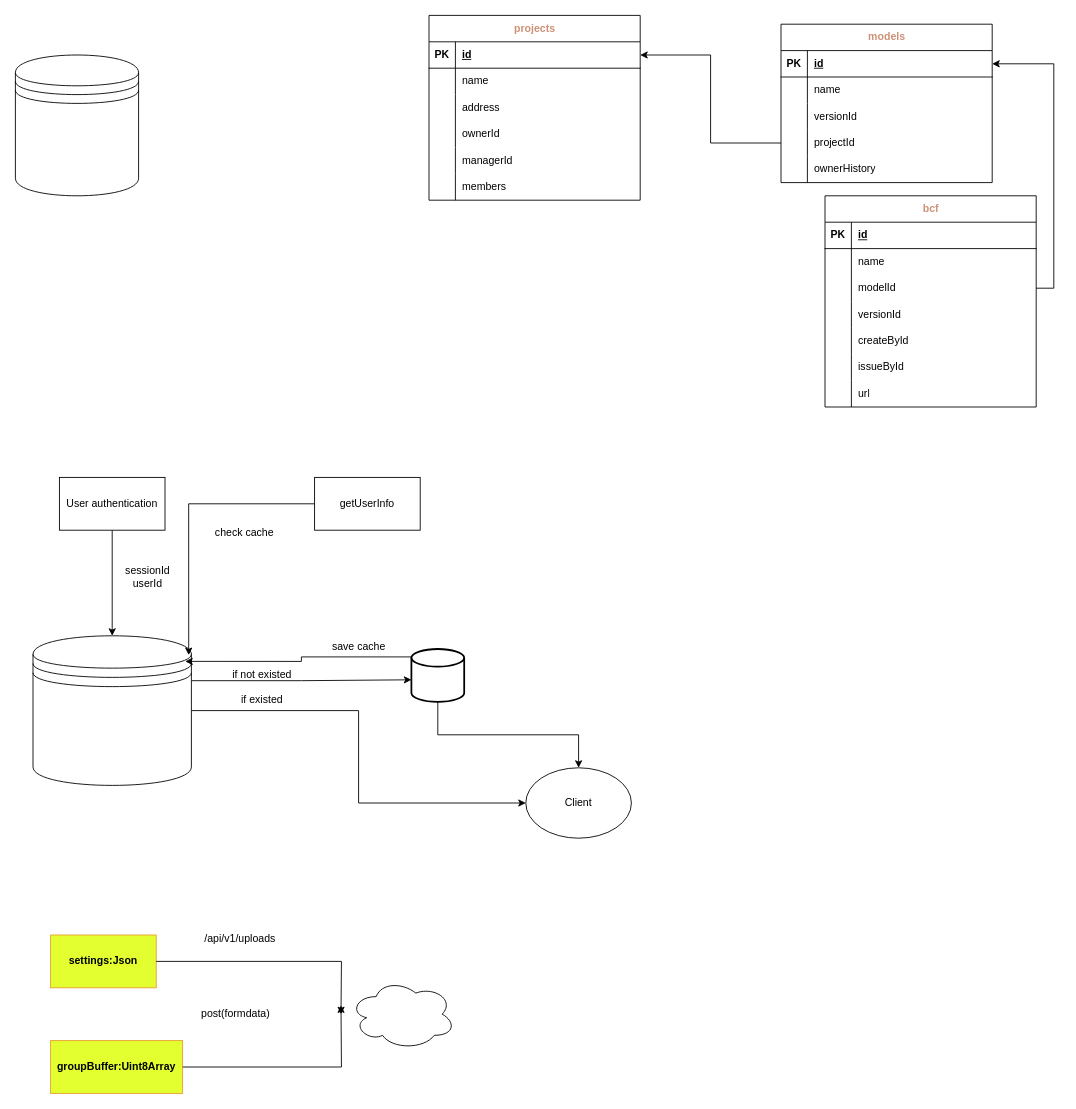
The diagram is 1076 pixels wide and 1109 high, and some of its shapes have lost their labels. The shapes that lost their labels are listed below. From the top down, each one's centre as x and y in pixels, then its label:
point (77, 125): Clerk
point (437, 675): query db
point (111, 710): Redis
point (402, 1013): S3
